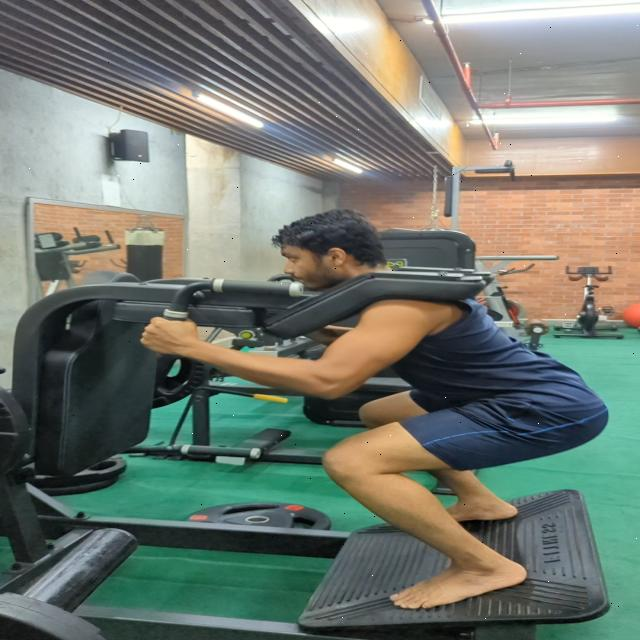Normal_SquatsWithBarbell: (116, 227, 614, 628)
